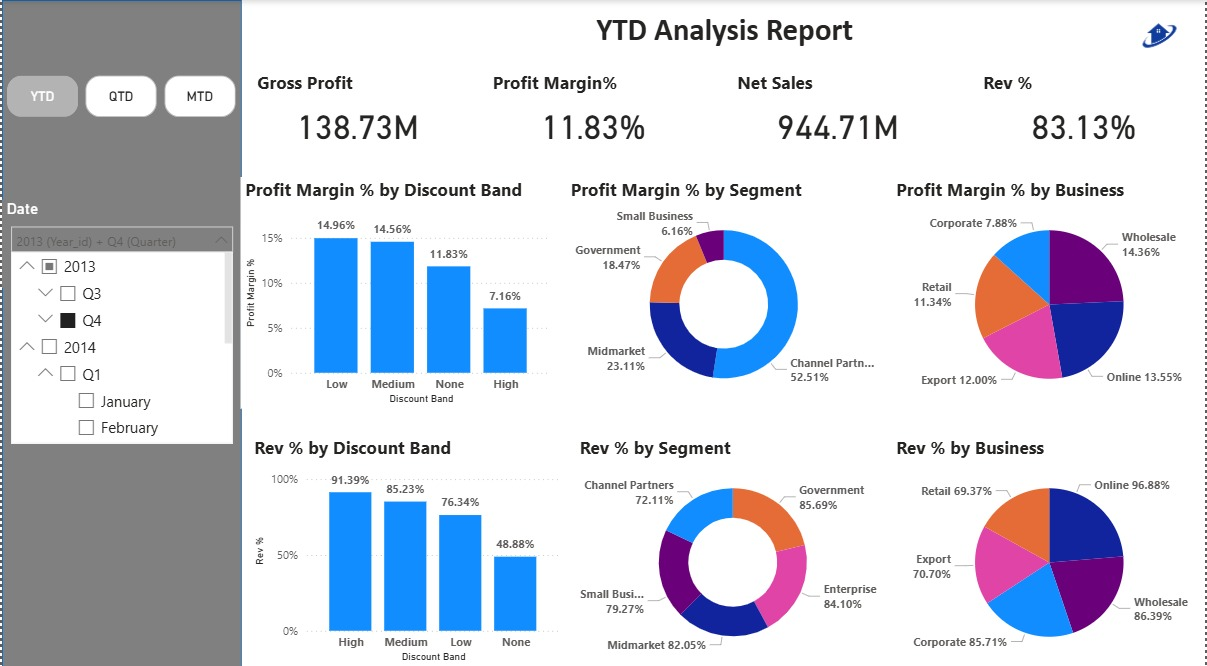

Layout of this report page (visuals, bound fields, positions):
{"tool":"powerbi","page":{"name":"YTD","canvas":[1280,720],"ordinal":1},"visuals":[{"type":"shape","box":[0,0,245,720],"z":0},{"type":"advancedSlicerVisual","fields":{"Values":["Time.Slicer"]},"box":[5,60,235,71.2],"z":1000},{"type":"slicer","title":"Date","fields":{"Values":["Dim_Date.Year_id","Dim_Date.Quarter","Dim_Date.Month_Name"]},"box":[5,170,235,292.5],"z":1000,"group":"g1"},{"type":"actionButton","box":[317.9,0,100.3,40.4],"z":2000},{"type":"slicer","fields":{"Values":["Fact-Finance.Business"]},"box":[5,485,235,80],"z":3000},{"type":"shape","box":[253.1,0,891.4,59.9],"z":4000},{"type":"group","id":"g1","title":"Group 1","box":[5,170,235,292.5],"z":5000},{"type":"cardVisual","title":"Gross Profit","fields":{"Data":["Measures(1).Dynamic_GrossProfit"]},"box":[260.5,92.9,245.8,106.4],"z":6000},{"type":"cardVisual","title":"Profit Margin%","fields":{"Data":["Measures(1).Profit Margin%"]},"box":[518.5,92.9,245.8,106.4],"z":7000},{"type":"cardVisual","fields":{"Data":["Measures(1).Selected Date Header"]},"box":[5,196.2,235,27.5],"z":7001,"group":"g1"},{"type":"cardVisual","title":"Net Sales","fields":{"Data":["Measures(1).Selected Net Sales"]},"box":[776.5,92.9,245.8,106.4],"z":8000},{"type":"cardVisual","title":"Revenue %","fields":{"Data":["Measures(1).Revenue%"]},"box":[1034.2,92.9,245.8,106.4],"z":9000},{"type":"columnChart","fields":{"Category":["Fact-Finance.Discount Band"],"Y":["Measures(1).Profit Margin%"]},"box":[260.5,199.3,339.9,265.4],"z":10000},{"type":"donutChart","fields":{"Category":["Fact-Finance.Segment"],"Y":["Measures(1).Profit Margin%"]},"box":[600.4,199.3,339.9,262.9],"z":11000},{"type":"pieChart","fields":{"Y":["Measures(1).Profit Margin%"],"Category":["Fact-Finance.Business"]},"box":[940.4,199.3,339.9,265.4],"z":12000},{"type":"columnChart","fields":{"Category":["Fact-Finance.Discount Band"],"Y":["Measures(1).Revenue%"]},"box":[260.5,464.7,339.9,255.6],"z":13000},{"type":"donutChart","fields":{"Category":["Fact-Finance.Segment"],"Y":["Measures(1).Revenue%"]},"box":[940.4,464.7,339.9,255.6],"z":14000},{"type":"pieChart","fields":{"Category":["Fact-Finance.Business"],"Y":["Measures(1).Revenue%"]},"box":[600.4,464.7,339.9,255.6],"z":15000},{"type":"image","box":[1208.8,11.2,55,48.8],"z":16000}]}

Visuals, with their boxes on the page's 1280x720 design canvas (x1, y1, x2, y2). These are canvas units, not pixel positions in the 1207x666 screenshot, which may show the page scaled, cropped or inside an application window:
shape: bbox(0, 0, 245, 720)
advancedSlicerVisual - Time.Slicer: bbox(5, 60, 240, 131)
"Date" slicer: bbox(5, 170, 240, 462)
actionButton: bbox(318, 0, 418, 40)
slicer - Fact-Finance.Business: bbox(5, 485, 240, 565)
shape: bbox(253, 0, 1144, 60)
"Group 1" group: bbox(5, 170, 240, 462)
"Gross Profit" cardVisual: bbox(260, 93, 506, 199)
"Profit Margin%" cardVisual: bbox(518, 93, 764, 199)
cardVisual - Measures(1).Selected Date Header: bbox(5, 196, 240, 224)
"Net Sales" cardVisual: bbox(776, 93, 1022, 199)
"Revenue %" cardVisual: bbox(1034, 93, 1280, 199)
columnChart - Fact-Finance.Discount Band x Measures(1).Profit Margin%: bbox(260, 199, 600, 465)
donutChart - Fact-Finance.Segment x Measures(1).Profit Margin%: bbox(600, 199, 940, 462)
pieChart - Measures(1).Profit Margin% x Fact-Finance.Business: bbox(940, 199, 1280, 465)
columnChart - Fact-Finance.Discount Band x Measures(1).Revenue%: bbox(260, 465, 600, 720)
donutChart - Fact-Finance.Segment x Measures(1).Revenue%: bbox(940, 465, 1280, 720)
pieChart - Fact-Finance.Business x Measures(1).Revenue%: bbox(600, 465, 940, 720)
image: bbox(1209, 11, 1264, 60)
